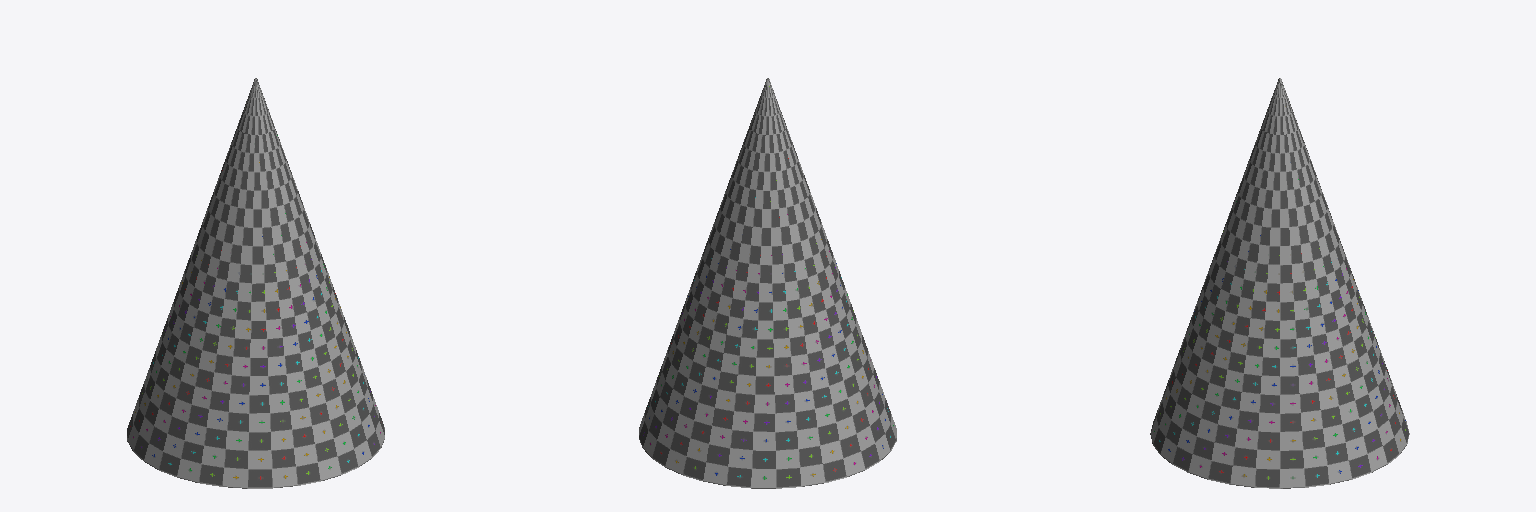
3 renders of one model, left to right at view 1: azimuth 30°, elevation 25°; view 2: azimuth 150°, elevation 25°; view 3: azimuth 270°, elevation 25°, orthographic.
Visible parts, largest first — view 1: Cylinder_cone; view 2: Cylinder_cone; view 3: Cylinder_cone.
Boxes of the visible parts, x1,y1,x2,y2 form: Cylinder_cone: [127, 78, 384, 488]; Cylinder_cone: [639, 78, 896, 488]; Cylinder_cone: [1150, 78, 1409, 488].
Size of the model in its own units: 3.44 by 5.22 by 3.44.
Materials: 1 (1 with a texture image).